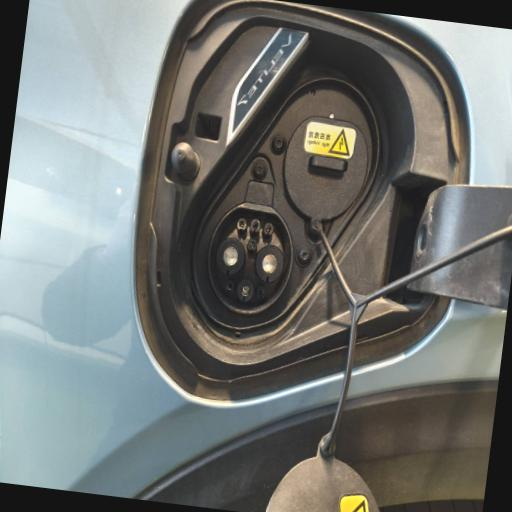DC_hole: (252, 243, 286, 285), (214, 236, 248, 278)
PE: (236, 278, 255, 302)
charging_port: (200, 198, 300, 322)
